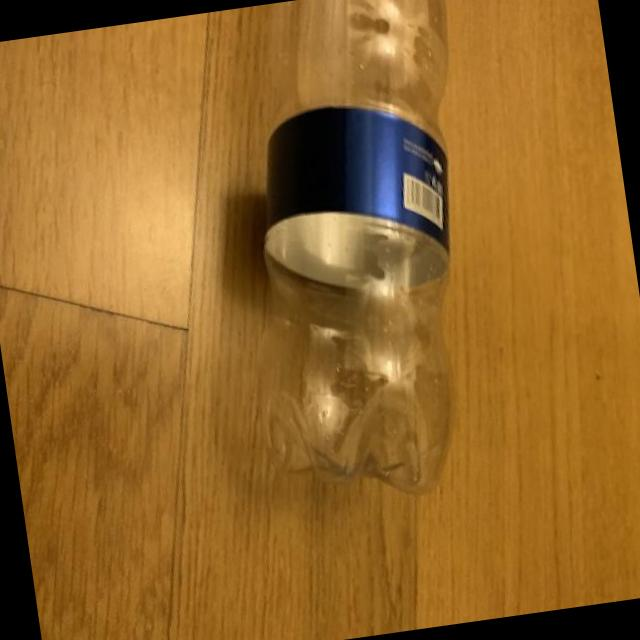plastic_bottle: (203, 0, 515, 515)
